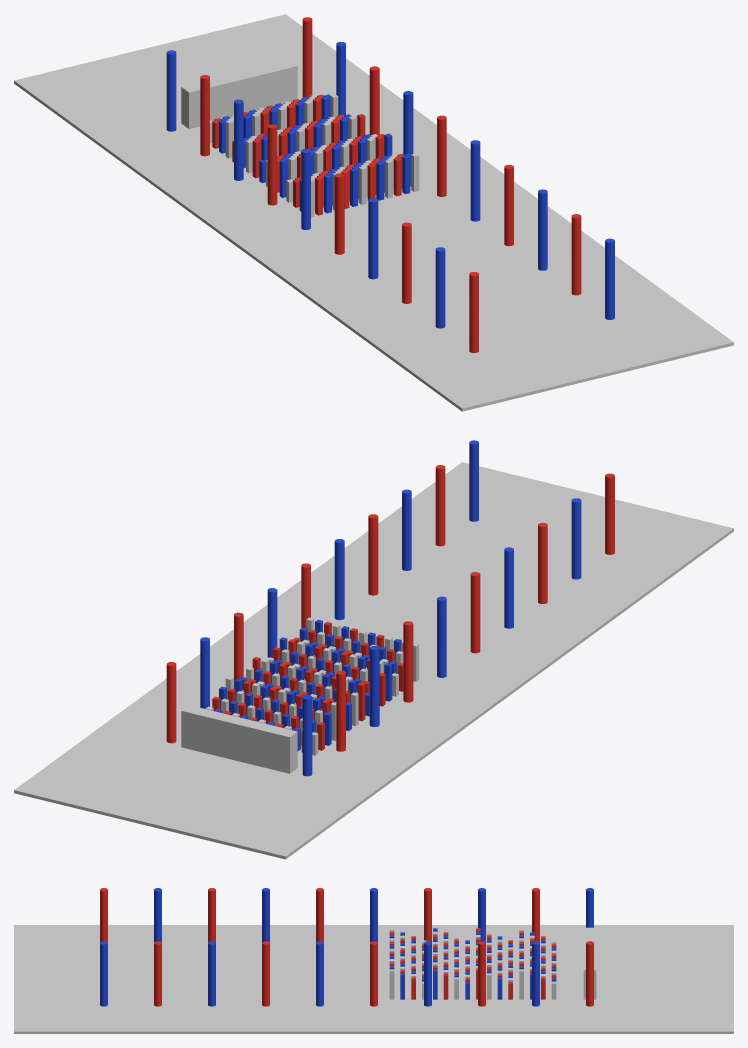
Rendered from meshlets.gltf.
The picture shows the model from 3 angles, top to bottom: view 1: azimuth 30°, elevation 25°; view 2: azimuth 150°, elevation 25°; view 3: azimuth 270°, elevation 25°; orthographic projection. The views are drawn at different scales.
Parts seen in each view (by area): view 1: Exhibit; view 2: Exhibit; view 3: Exhibit.
Part boxes in pixels (left/top/right/bottom): Exhibit: left=14, top=14, right=733, bottom=411; Exhibit: left=14, top=440, right=733, bottom=859; Exhibit: left=14, top=888, right=733, bottom=1033.
Size of the model in its own units: 14 by 3.95 by 40.
